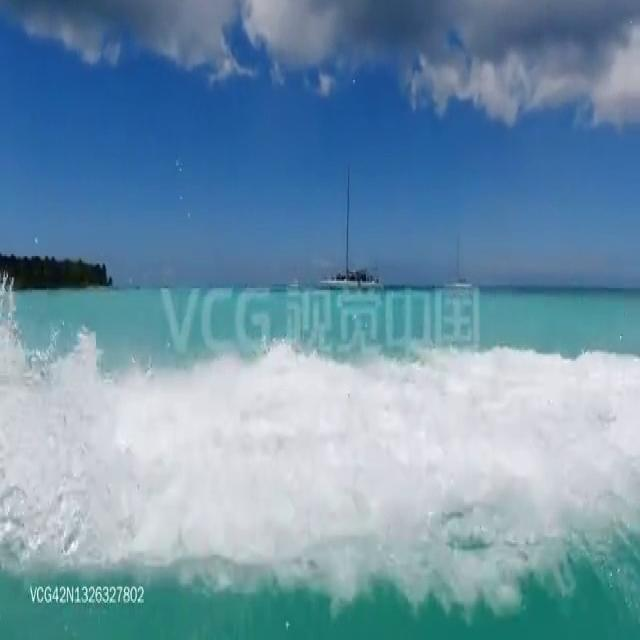sailboat: (320, 158, 378, 288), (445, 232, 473, 288)
